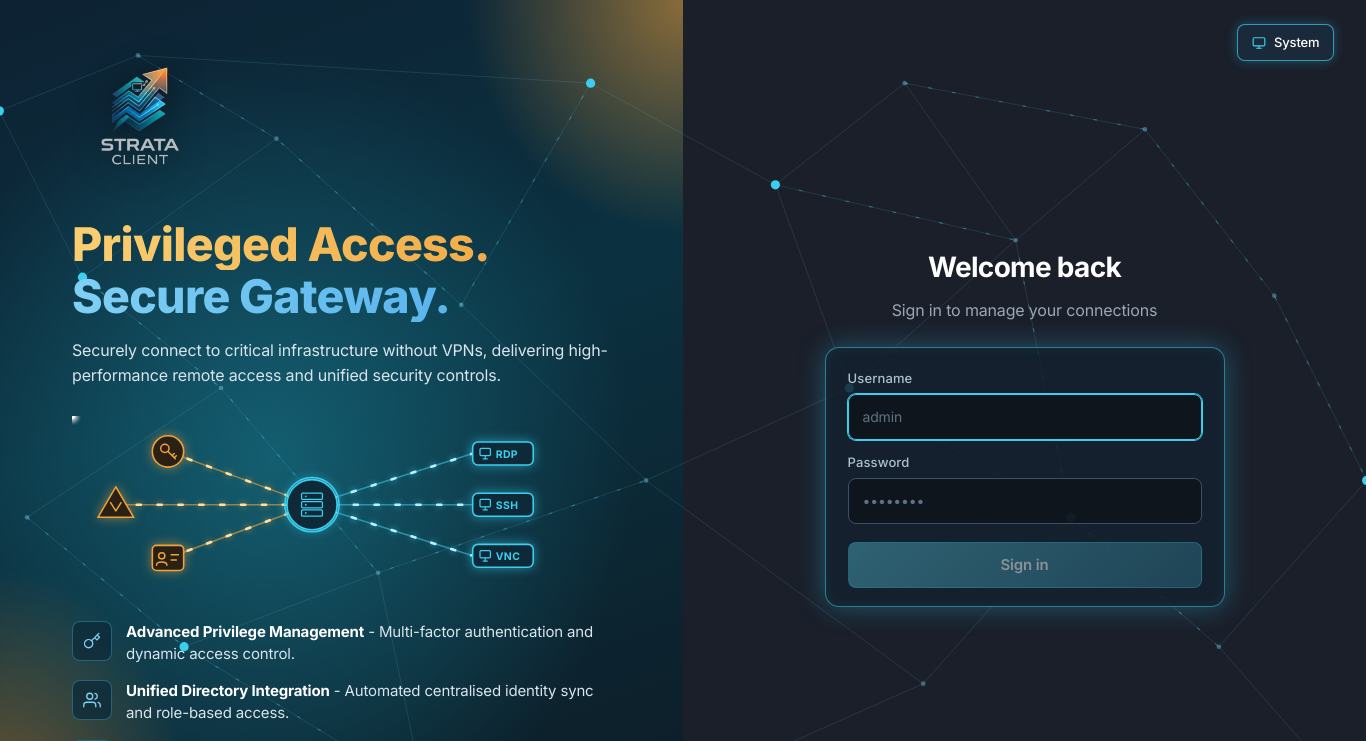
Test case: Login page › shows error on failed login
In the field with placeholder "admin": (1024, 417) [848,394,1202,440], type "testuser"
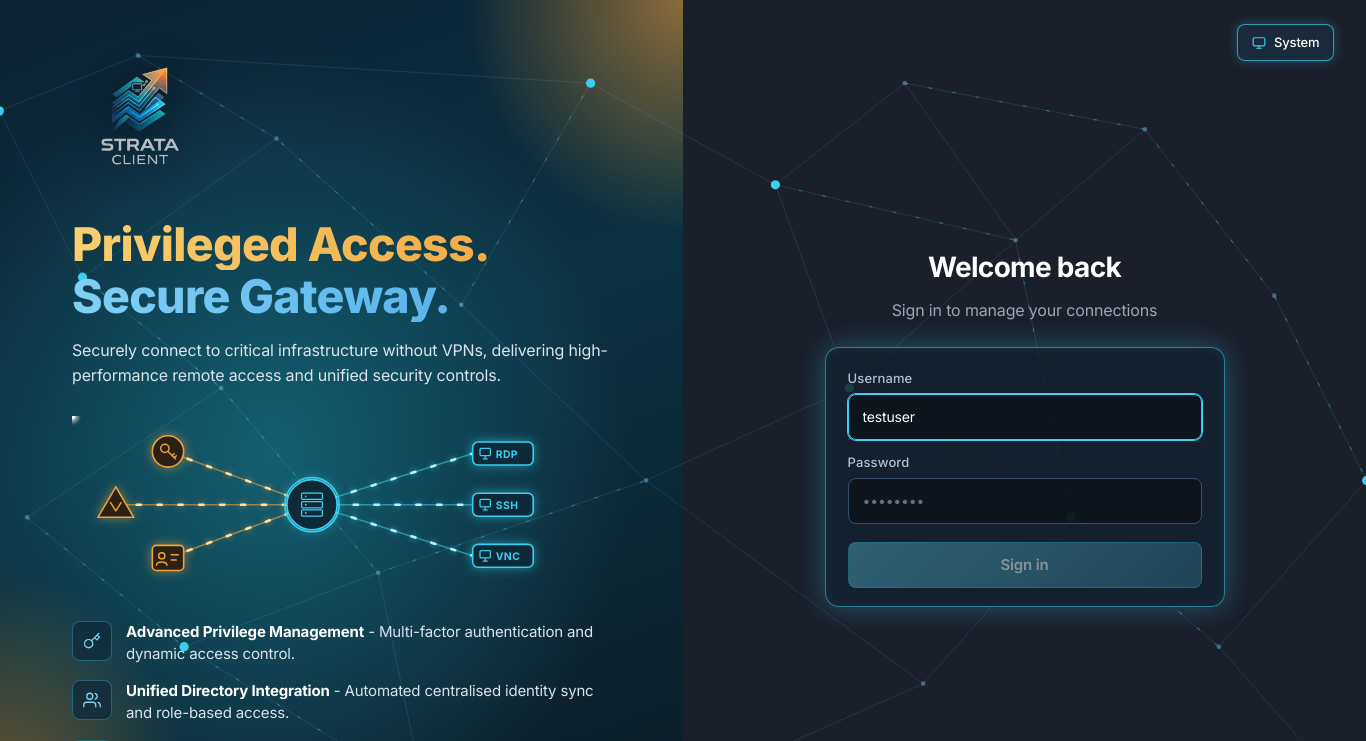
In the password field with placeholder "••••••••": (1024, 501) [848,478,1202,524], type "wrongpass"
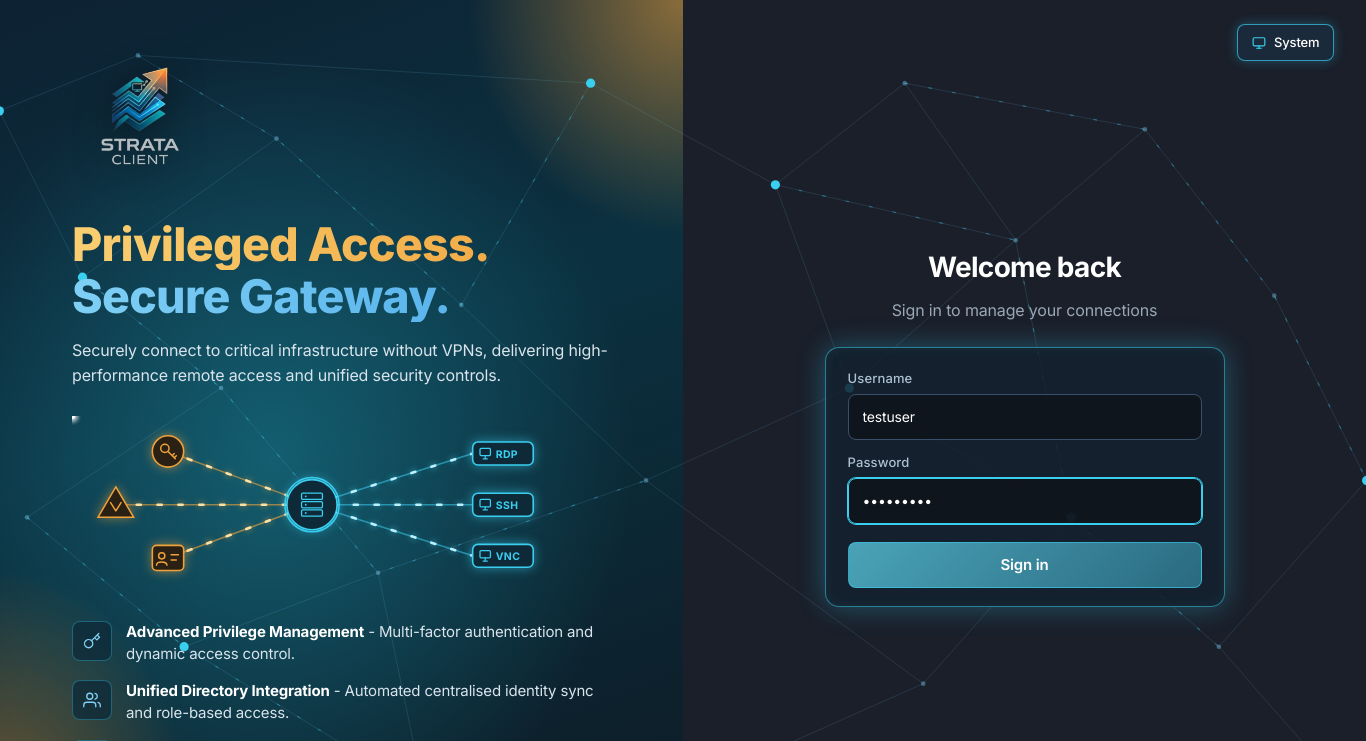
Click the button "Sign in": (1024, 565) [848,542,1202,588]
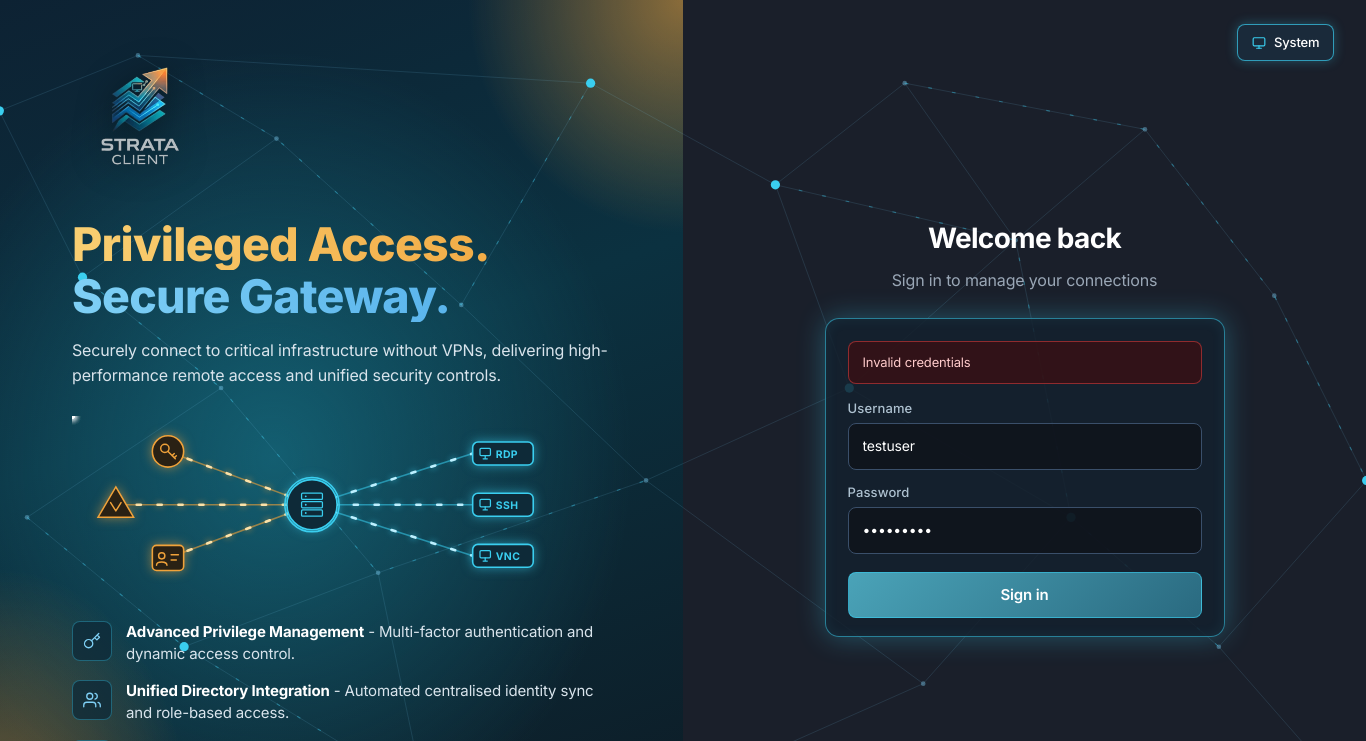
Check: the text "Invalid credentials" is shown, box [848,341,1202,384]
